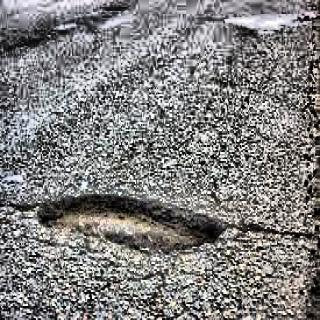pothole: (35, 185, 231, 254)
